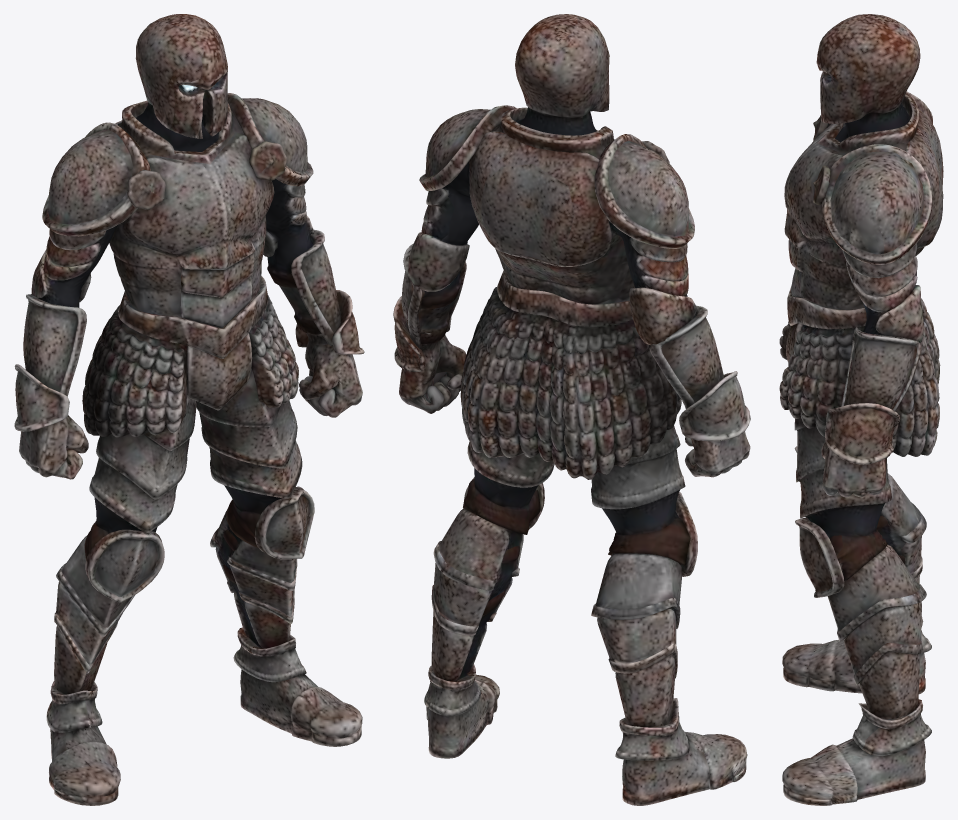
The model's file is MZ4250 - Animated Armor A-Pose.glb.
3 views of the same model, side by side, from view 1: azimuth 30°, elevation 25°; view 2: azimuth 150°, elevation 25°; view 3: azimuth 270°, elevation 25° (orthographic). The views are drawn at different scales.
Parts seen in each view (by area): view 1: Body.002; view 2: Body.002; view 3: Body.002.
Boxes of the visible parts, x1,y1,x2,y2 form: Body.002: (14, 14, 364, 805); Body.002: (393, 14, 750, 805); Body.002: (779, 14, 943, 805).
Size of the model in its own units: 49.19 by 100 by 20.77.
Materials: 1 (1 with a texture image).
